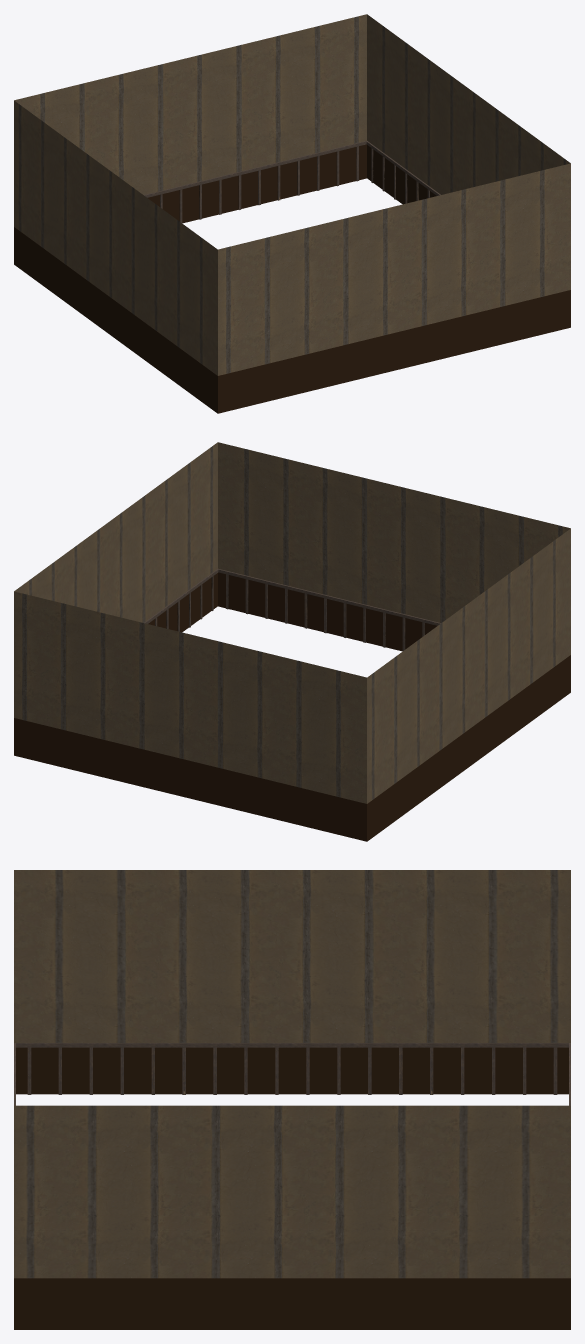
The model's file is room_big.obj.
The picture shows the model from 3 angles, top to bottom: view 1: azimuth 30°, elevation 25°; view 2: azimuth 150°, elevation 25°; view 3: azimuth 270°, elevation 25°; orthographic projection. The views are drawn at different scales.
Visible parts, largest first — view 1: room1; view 2: room1; view 3: room1.
Part boxes in pixels (bbox=[...]): room1: bbox=[14, 14, 570, 413]; room1: bbox=[14, 442, 570, 841]; room1: bbox=[14, 870, 570, 1329].
Bounding box in the file's own units: 9 × 4 × 9.
3 materials, 2 textured.
